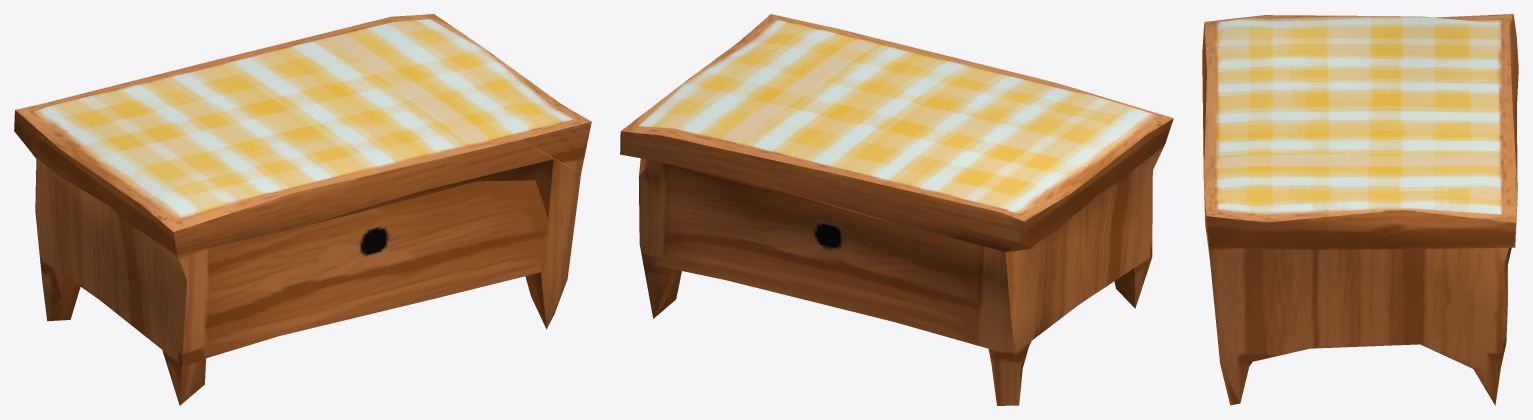
File: family-coffee-table.glb
3 renders of one model, left to right at view 1: azimuth 30°, elevation 25°; view 2: azimuth 150°, elevation 25°; view 3: azimuth 270°, elevation 25°, orthographic. The views are drawn at different scales.
Visible parts, largest first — view 1: geometry_0; view 2: geometry_0; view 3: geometry_0.
Part boxes in pixels (left/top/right/bottom): geometry_0: left=14, top=14, right=591, bottom=405; geometry_0: left=620, top=14, right=1173, bottom=405; geometry_0: left=1202, top=14, right=1518, bottom=405.
Bounding box in the file's own units: 1 × 0.48 × 0.657.
Materials: 1 (1 with a texture image).
